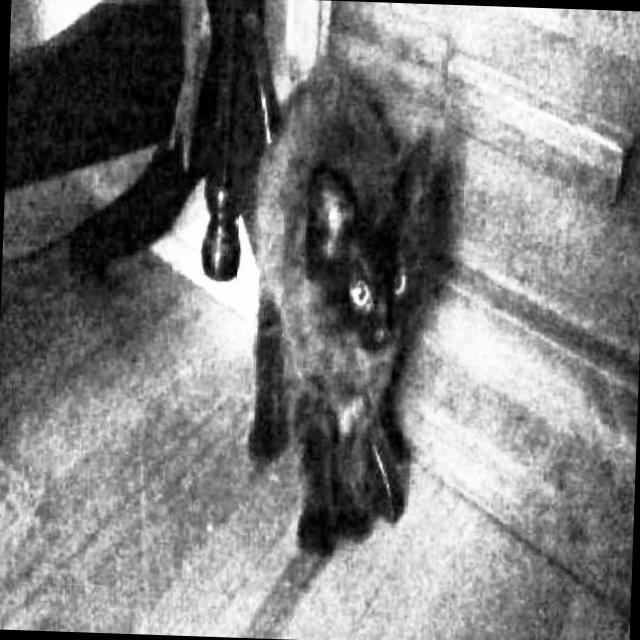Cat: (226, 53, 444, 570)
